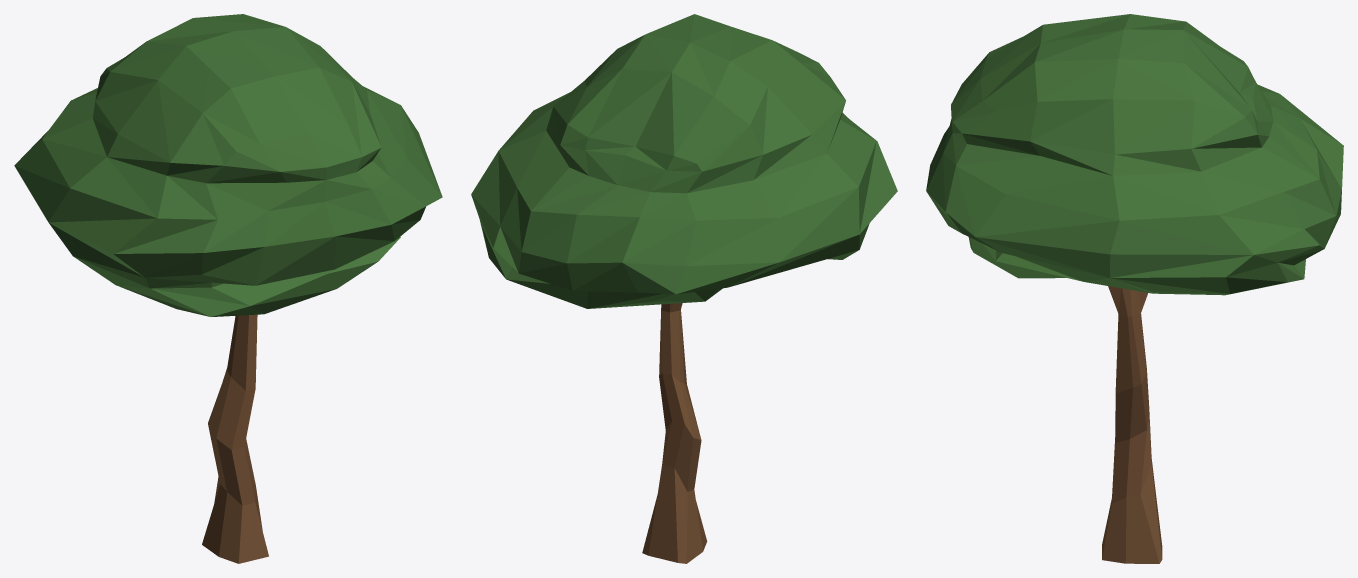
File: Env_Tree01_2.fbx
3 views of the same model, side by side, from view 1: azimuth 30°, elevation 25°; view 2: azimuth 150°, elevation 25°; view 3: azimuth 270°, elevation 25° (orthographic). The views are drawn at different scales.
Parts seen in each view (by area): view 1: Env_Tree01_2; view 2: Env_Tree01_2; view 3: Env_Tree01_2.
Boxes of the visible parts, bbox=[...] form: Env_Tree01_2: bbox=[14, 14, 442, 563]; Env_Tree01_2: bbox=[471, 14, 897, 563]; Env_Tree01_2: bbox=[926, 14, 1343, 563].
Size of what is drawn, in the model's own units: 246 by 250 by 343.
